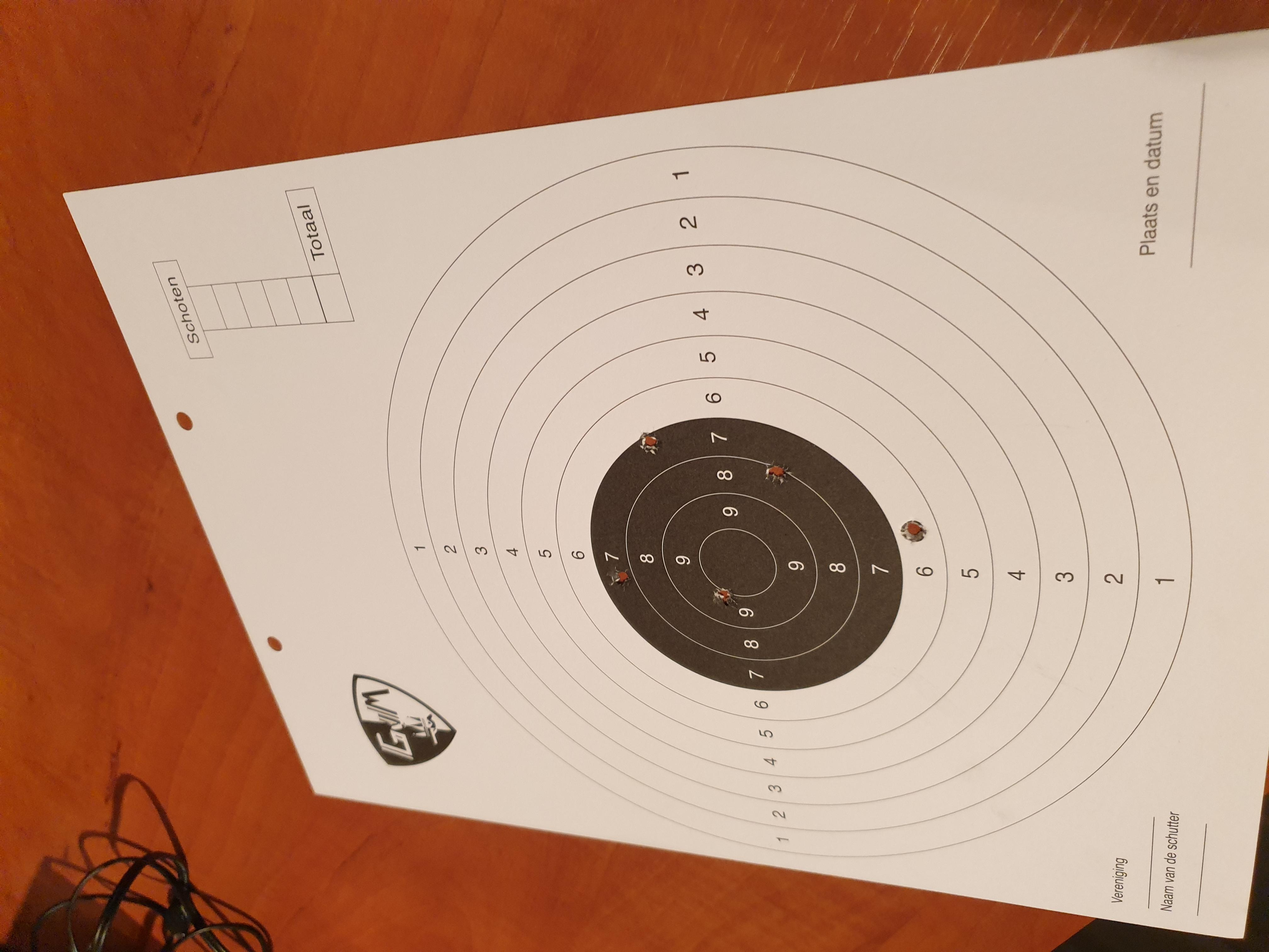hole: (475, 465, 508, 492), (339, 408, 370, 433), (605, 496, 633, 522), (530, 340, 557, 366), (635, 362, 664, 386)
